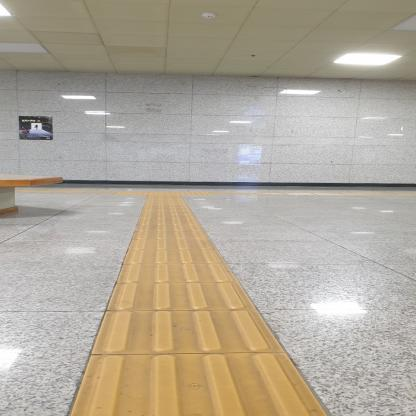go: (68, 352, 329, 416), (89, 310, 286, 355), (107, 283, 257, 312), (116, 263, 240, 283), (122, 249, 226, 264)
